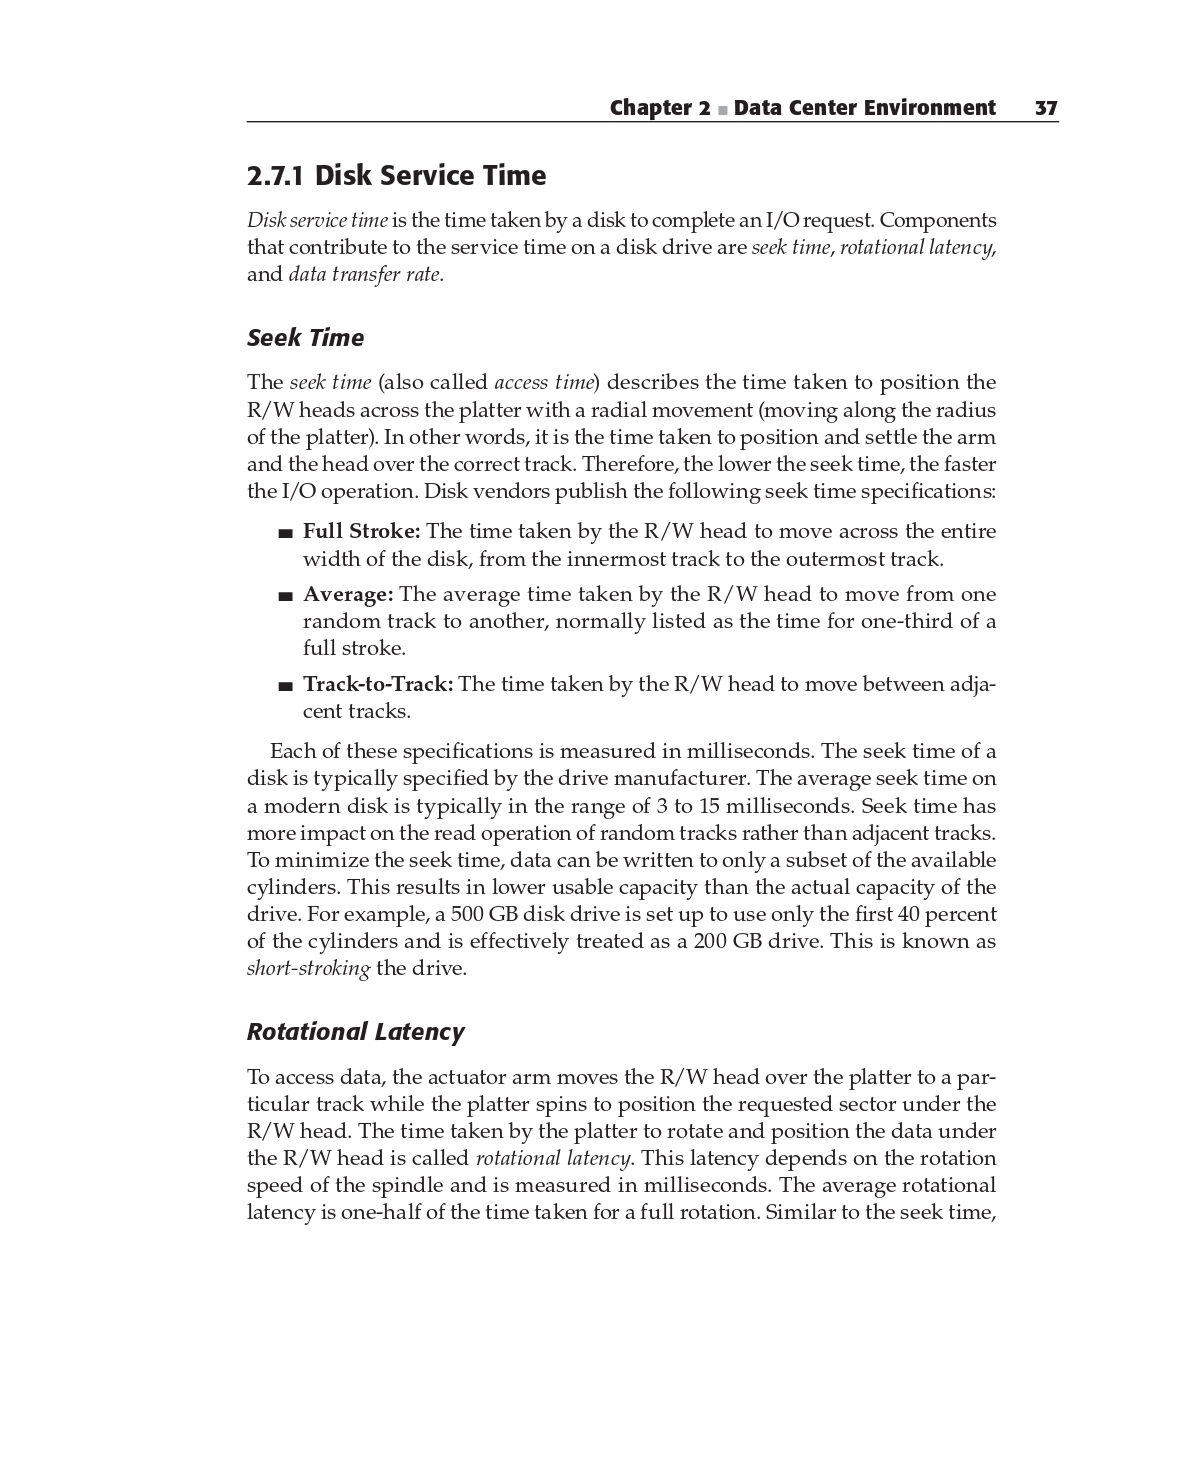Paragraph: (240, 725, 1007, 978), (240, 1065, 1007, 1227), (230, 362, 1001, 511), (236, 195, 1007, 286), (298, 581, 1011, 657), (301, 516, 1013, 576), (301, 663, 1001, 721), (584, 85, 1095, 131), (230, 152, 552, 190), (242, 1005, 485, 1054), (242, 321, 379, 359)
